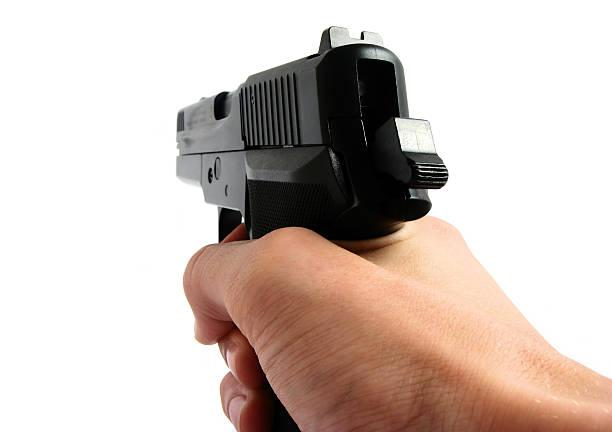weapon: (171, 21, 445, 267)
